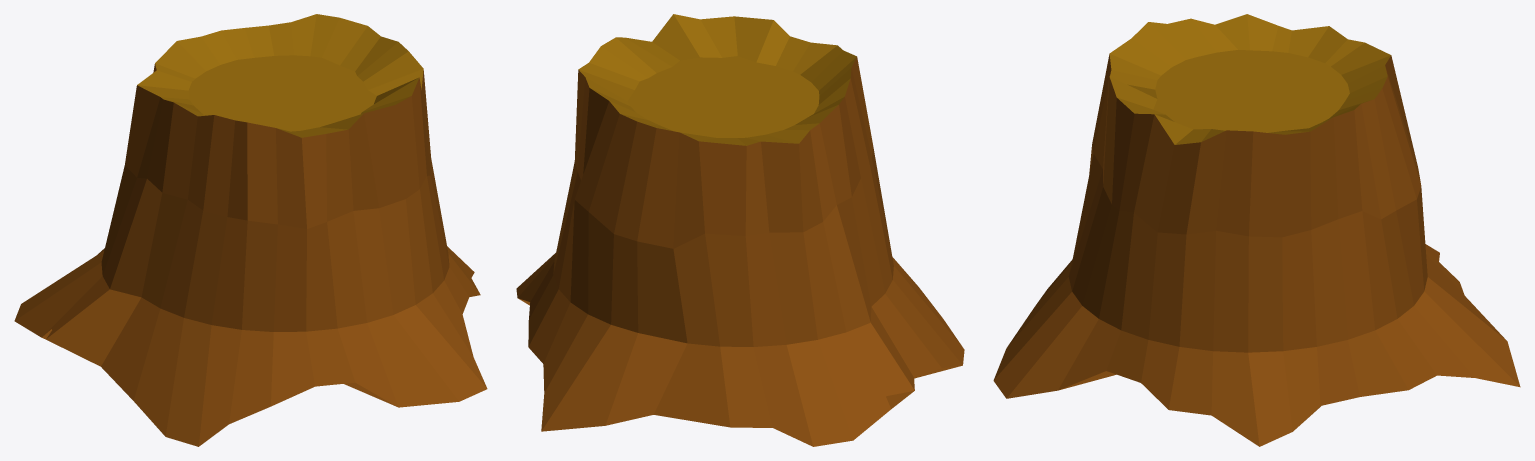
Rendered from SM_Generic_TreeStump_01.fbx.
3 renders of one model, left to right at view 1: azimuth 30°, elevation 25°; view 2: azimuth 150°, elevation 25°; view 3: azimuth 270°, elevation 25°, orthographic. The views are drawn at different scales.
Visible parts, largest first — view 1: Circle; view 2: Circle; view 3: Circle.
Boxes of the visible parts, <box> form: Circle: <box>14,14,487,446</box>; Circle: <box>516,14,964,446</box>; Circle: <box>993,14,1520,446</box>.
Bounding box in the file's own units: 151 × 102 × 156.
